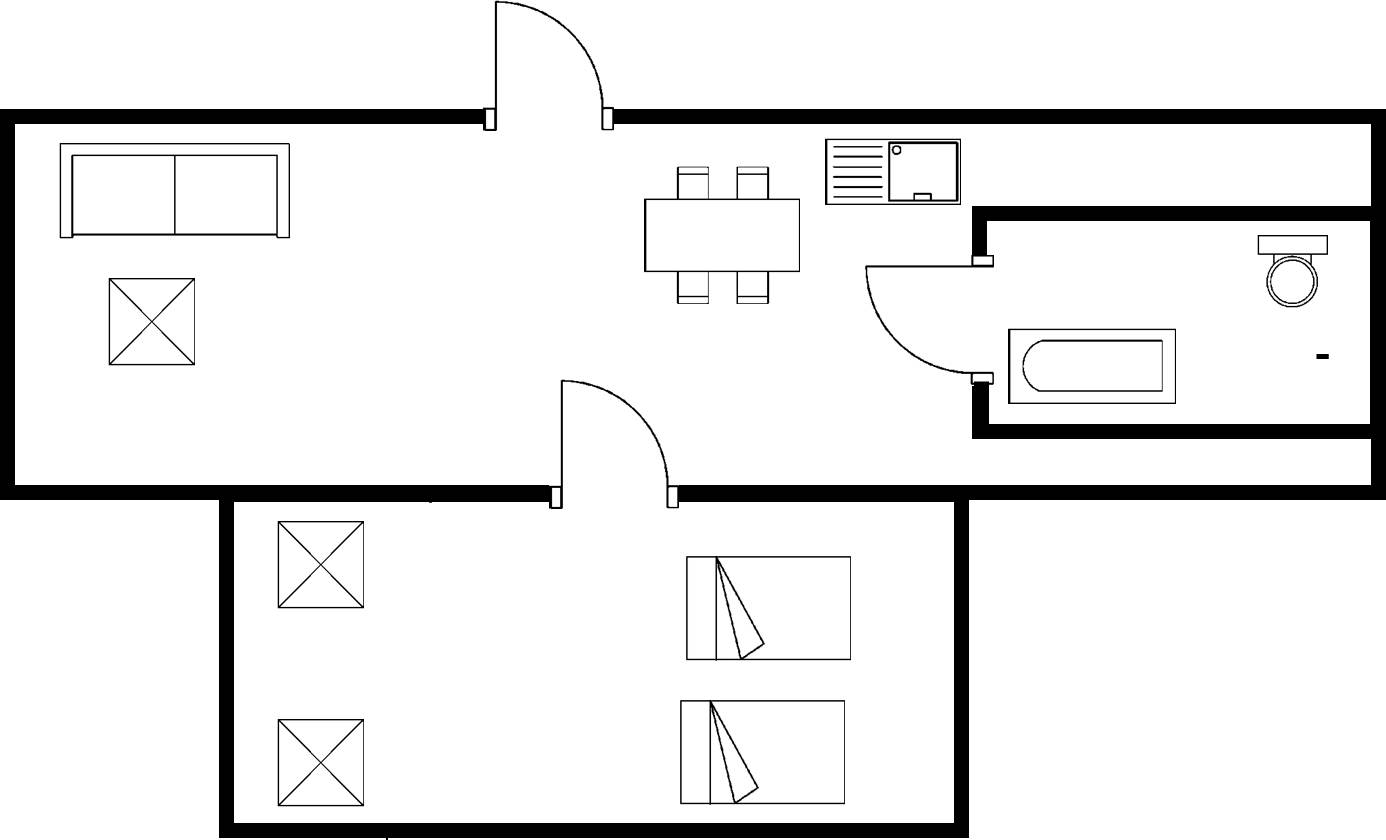bed: (674, 695, 851, 811), (680, 552, 856, 668)
coffee_table: (102, 271, 201, 373), (273, 714, 369, 814), (274, 517, 370, 616)
dining_table: (636, 161, 808, 309)
large_sink: (1251, 229, 1332, 313)
large_sofa: (53, 136, 296, 249)
sink: (819, 134, 966, 209)
tub: (1000, 323, 1180, 408)
